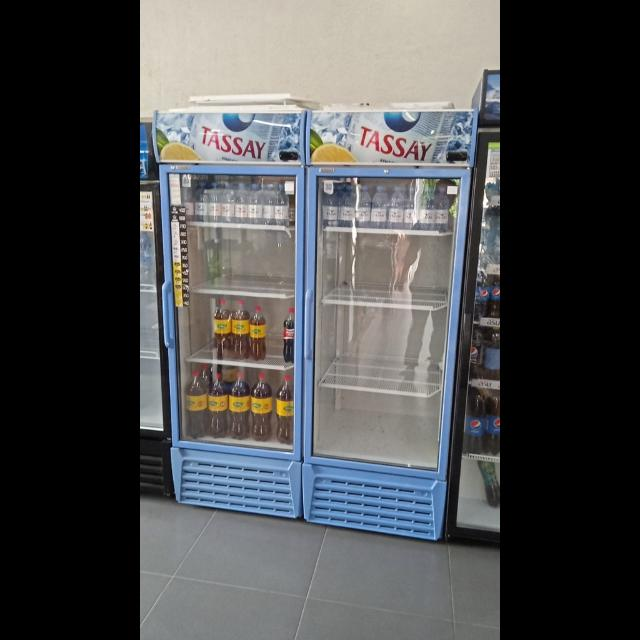Cooling-Display: (302, 106, 478, 540), (150, 109, 306, 518)
